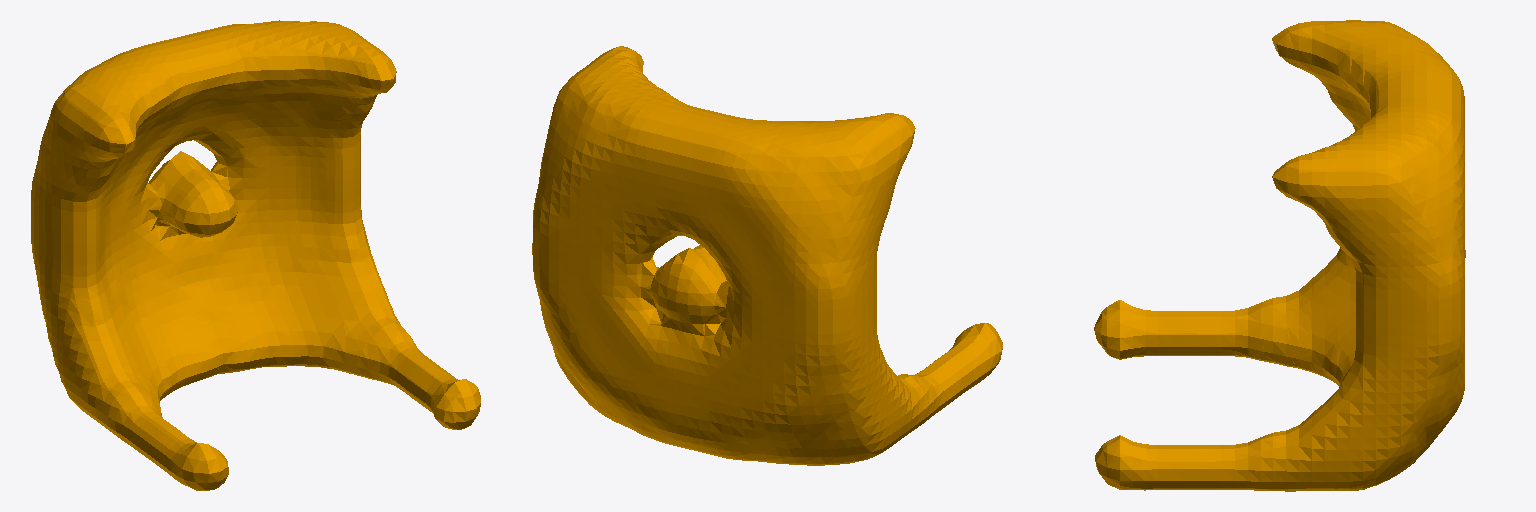
robot.urdf — O11_0:
<?xml version="1.0"?>
<robot name="O11_0">
  <link name="base_link">
    <inertial>
      <mass value="0.10263" />
      <origin xyz="0 0 0" />
      <inertia  ixx="0.0002" ixy="0.0"  ixz="0.0"  iyy="0.0002"  iyz="0.0" izz="0.0002" />
    </inertial>
    <visual>
      <geometry>
        <mesh filename="../../../meshes/egad/train/O11_0.obj" />
      </geometry>
    </visual>
    <collision>
      <geometry>
        <mesh filename="../../../meshes/egad/train/O11_0.obj" />
      </geometry>
    </collision>
  </link>
</robot>

--- Render facts (derived) ---
The picture shows the robot from 3 angles, left to right: view 1: azimuth 30°, elevation 25°; view 2: azimuth 150°, elevation 25°; view 3: azimuth 270°, elevation 25°; orthographic projection.
Robot: O11_0 — 1 links, 0 joints (none); root link base_link; default pose: all joints at 0.
Visible links, largest first — view 1: base_link; view 2: base_link; view 3: base_link.
Link boxes in pixels (left/top/right/bottom): base_link: left=31, top=20, right=480, bottom=490; base_link: left=532, top=46, right=1002, bottom=465; base_link: left=1094, top=20, right=1465, bottom=491.
Size in the robot's own frame: 0.0611 by 0.0602 by 0.061 metres.
Meshes: 1 distinct files referenced, 1 mesh visuals loaded (1 OBJ).